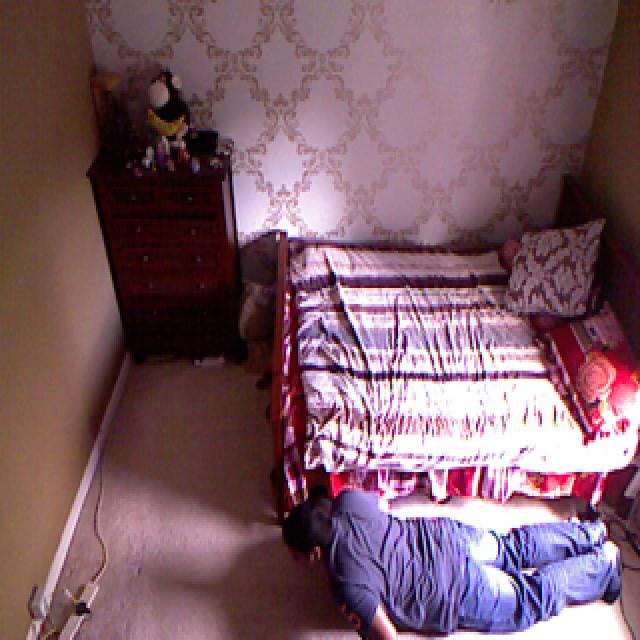lying: (256, 501, 640, 640)
